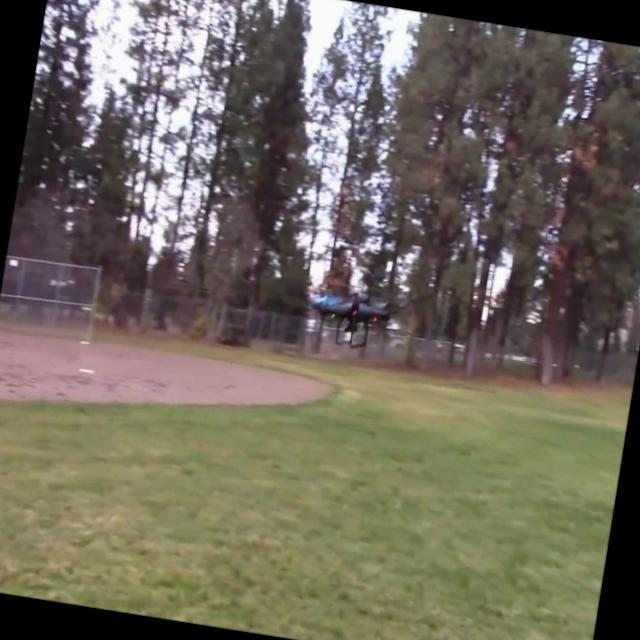drone: (302, 278, 408, 360)
